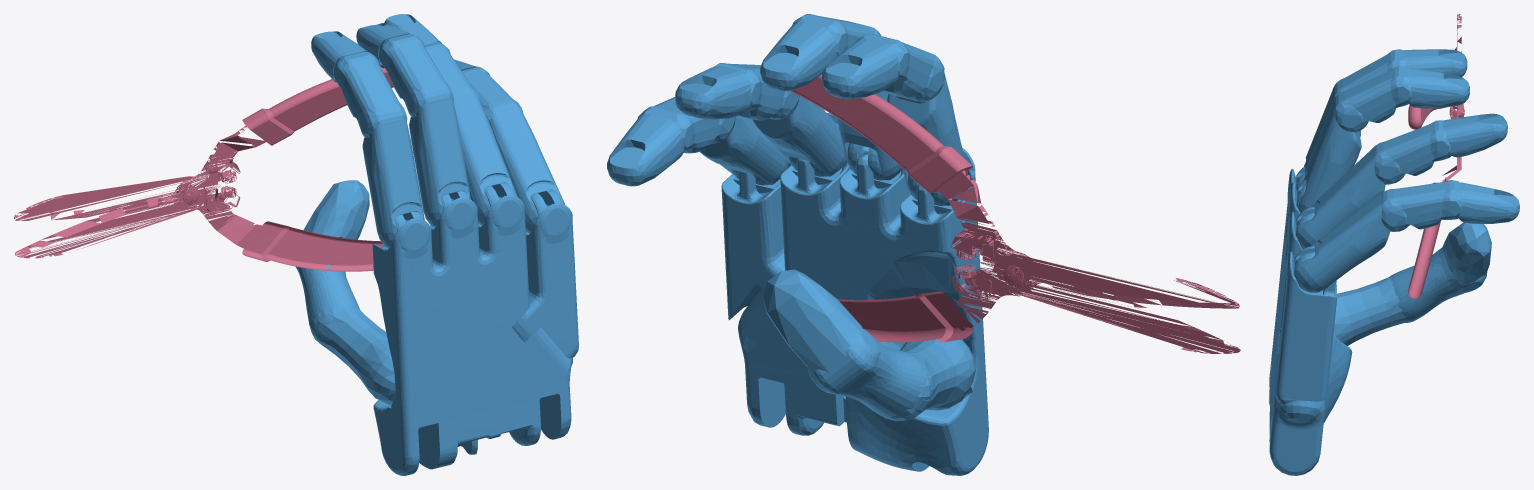
3 views of the same model, side by side, from view 1: azimuth 30°, elevation 25°; view 2: azimuth 150°, elevation 25°; view 3: azimuth 270°, elevation 25° (orthographic). The views are drawn at different scales.
Visible parts, largest first — view 1: 0; view 2: 0; view 3: 0.
Part boxes in pixels (left/top/right/bottom): 0: left=14, top=14, right=578, bottom=475; 0: left=607, top=14, right=1240, bottom=475; 0: left=1269, top=14, right=1519, bottom=475.
Size of the model in its own units: 0.2226 by 0.1715 by 0.108.
